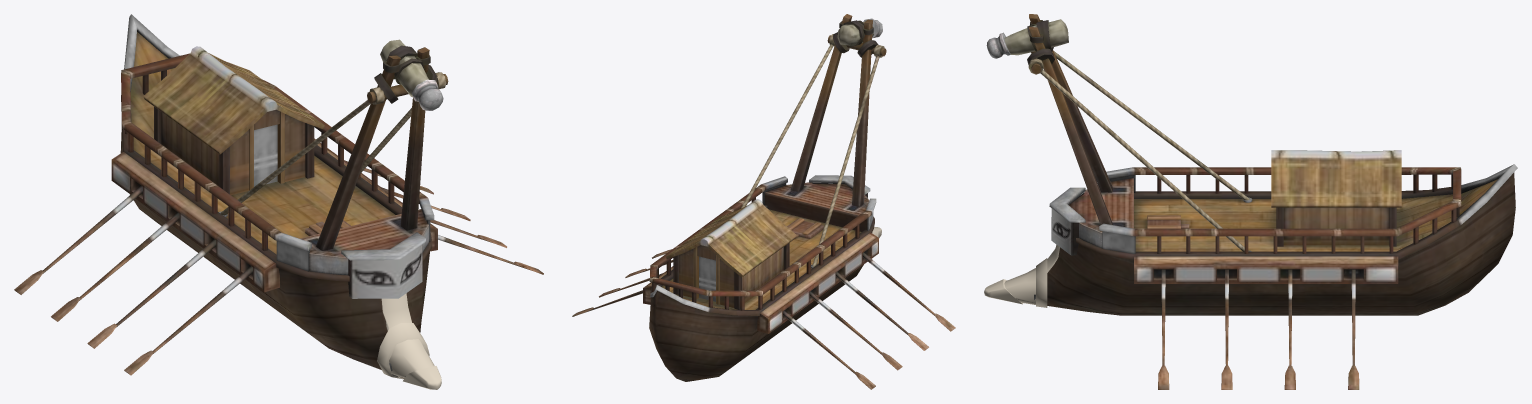
Rendered from 211-pentekonter.glb.
3 views of the same model, side by side, from view 1: azimuth 30°, elevation 25°; view 2: azimuth 150°, elevation 25°; view 3: azimuth 270°, elevation 25° (orthographic). The views are drawn at different scales.
Bounding box in the file's own units: 4.19 × 3.27 × 5.41.
3 materials, 2 textured.
